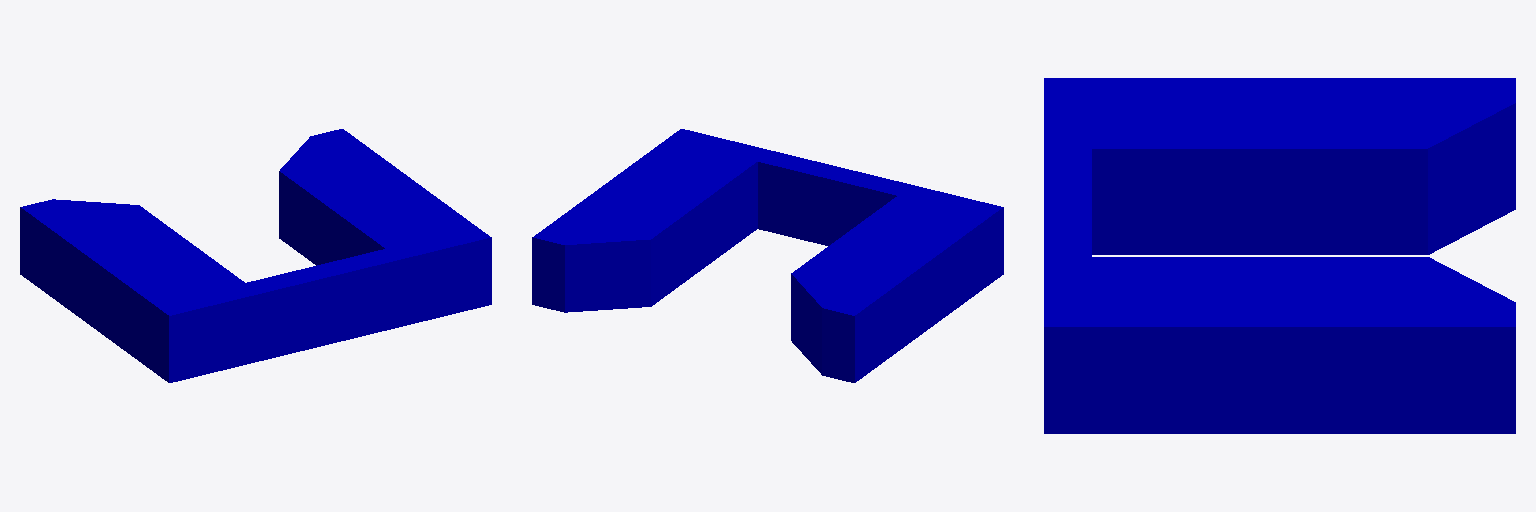
URDF robot description (receiver):
<?xml version="1.0" ?>
<robot name="receiver">
  <link name="baseLink">
    <contact>
      <lateral_friction value="0.1"/>
      <rolling_friction value="0."/>
	<restitution value="0" />
    </contact>
    <inertial>
      <origin rpy="0 0 0" xyz="0 0 0"/>
       <mass value="0."/>
       <inertia ixx="1.550E-05" ixy="0" ixz="0" iyy="1.550E-05" iyz="0" izz="3.060E-05"/>
    </inertial>
    <visual>
      <origin rpy="0 0 0" xyz="0 0 0"/>
      <geometry>
		<mesh filename="./socket_1.obj" scale="0.1 0.1 0.1"/>
      </geometry>
       <material name="green">
        <color rgba="0 0 0.8 1"/>
      </material>
    </visual>
    <collision concave="yes">
      <origin rpy="0 0 0" xyz="0 0 0"/>
      <geometry>
	 	<mesh filename="./socket_1.obj" scale="0.1 0.1 0.1"/>
      </geometry>
    </collision>
  </link>
</robot>

--- What the picture shows (computed from the rendered views, not written in the file) ---
3 views of the same robot in one strip: view 1: azimuth 30°, elevation 25°; view 2: azimuth 150°, elevation 25°; view 3: azimuth 270°, elevation 25° (orthographic).
Robot: receiver — 1 links, 0 joints (none); root link baseLink; default pose: all joints at 0.
Links seen in each view (by area): view 1: baseLink; view 2: baseLink; view 3: baseLink.
Link boxes in pixels (x1=…): baseLink: x1=20, y1=129, x2=491, y2=382; baseLink: x1=532, y1=129, x2=1003, y2=382; baseLink: x1=1044, y1=78, x2=1515, y2=433.
Bounding box of the posed robot: 1 × 0.8 × 0.2 m (x, y, z).
1 mesh visuals loaded from 1 distinct referenced files (1 OBJ).